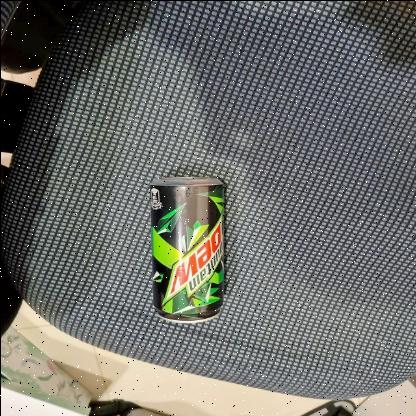Can: (151, 176, 225, 322)
